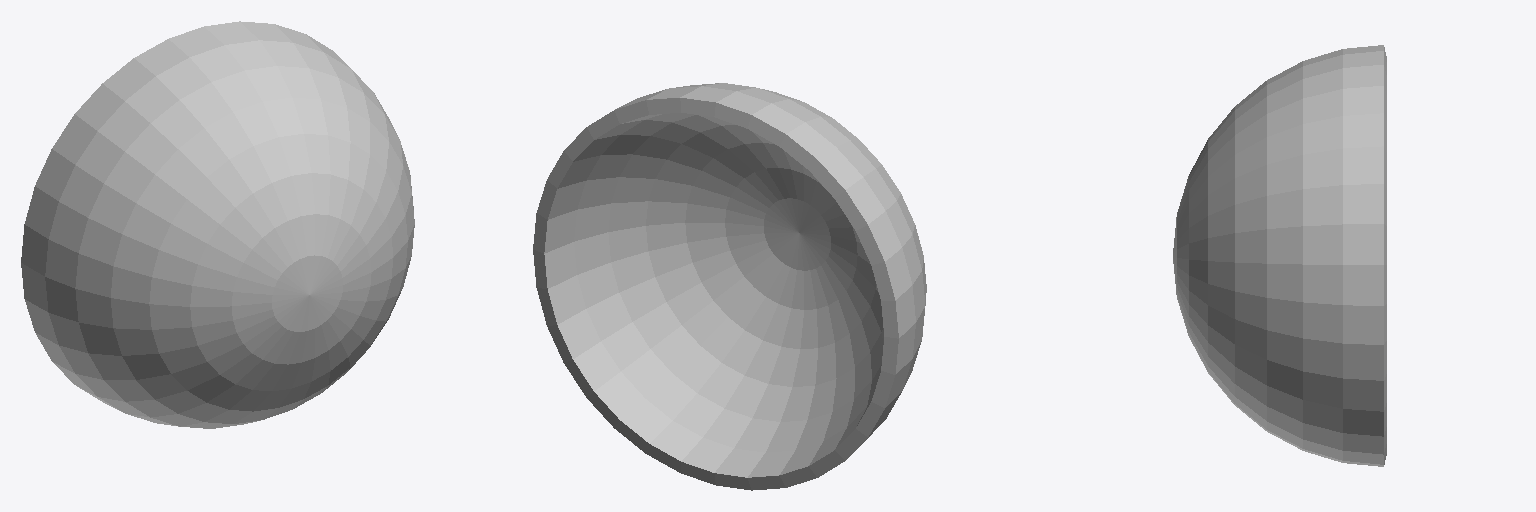
Rendered from beam_base_filled.obj.
3 renders of one model, left to right at view 1: azimuth 30°, elevation 25°; view 2: azimuth 150°, elevation 25°; view 3: azimuth 270°, elevation 25°, orthographic.
Parts seen in each view (by area): view 1: Sphere; view 2: Sphere; view 3: Sphere.
Part boxes in pixels (x1,y1,x2,y2): Sphere: (21,21,414,428); Sphere: (533,83,926,490); Sphere: (1173,45,1386,466).
Size of the model in its own units: 2 by 2 by 1.02.